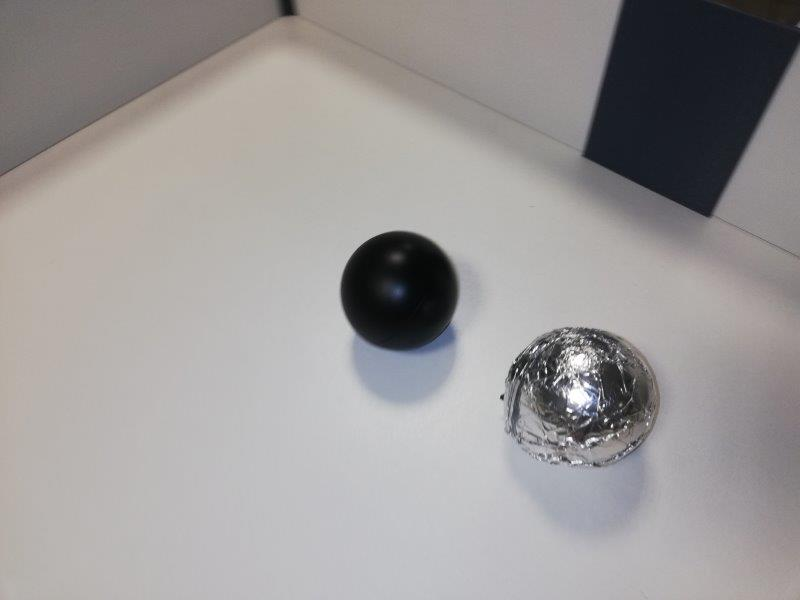bianca: (502, 326, 659, 466)
nera: (340, 230, 458, 350)
